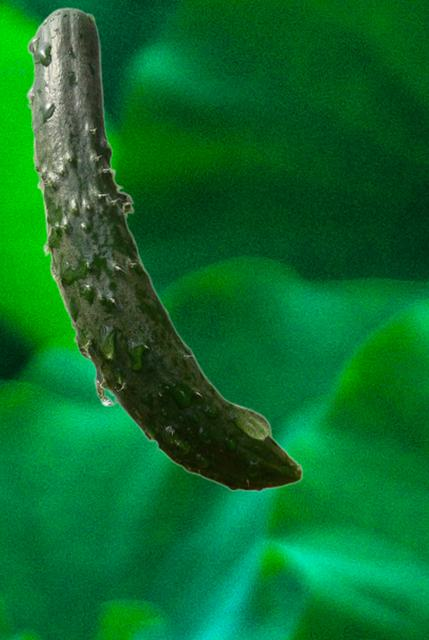cucumber: (25, 7, 302, 491)
